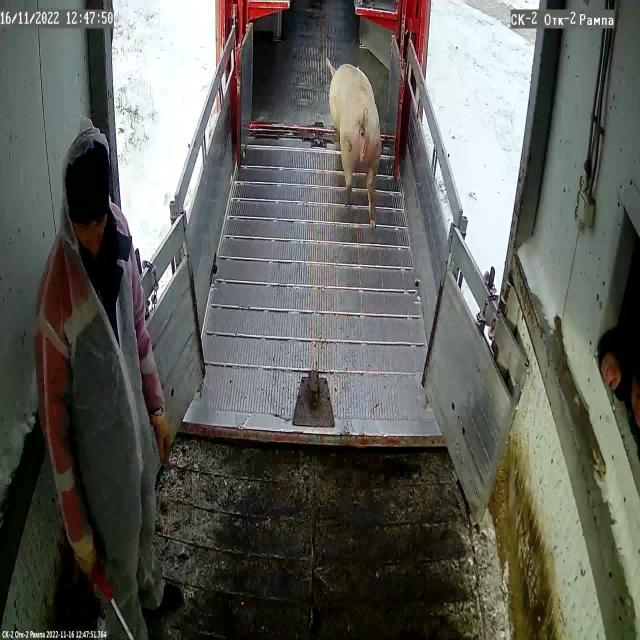pig: (326, 58, 382, 228)
